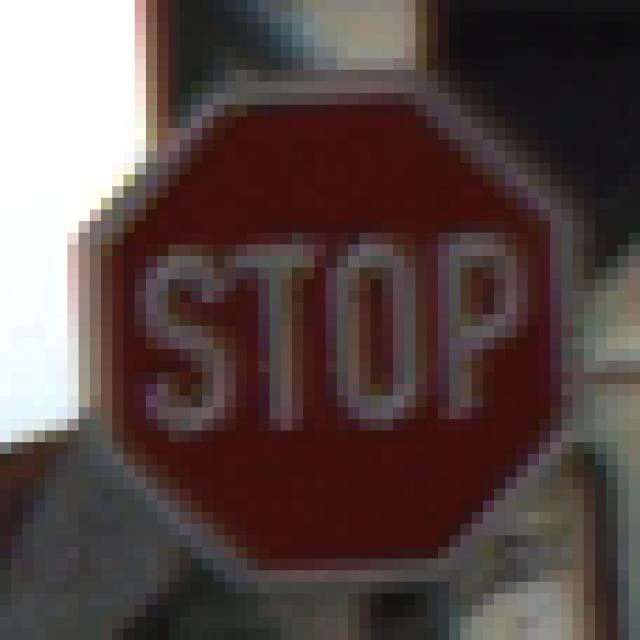STOP: (68, 71, 574, 583)
